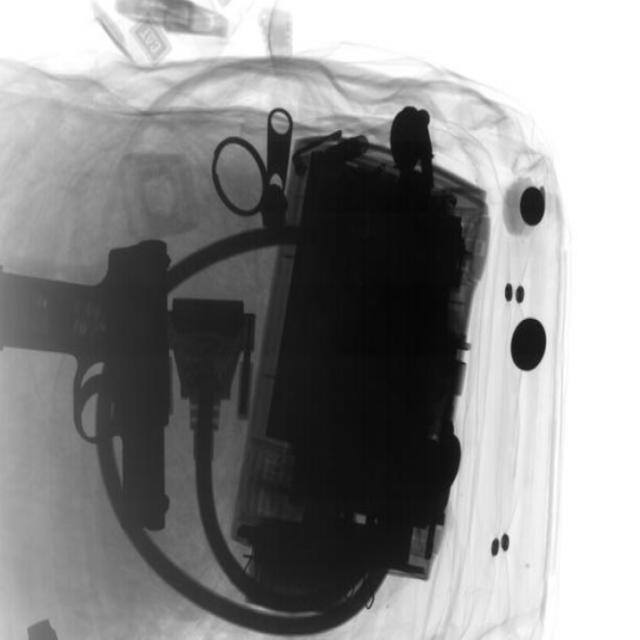GUN: (2, 237, 180, 547)
